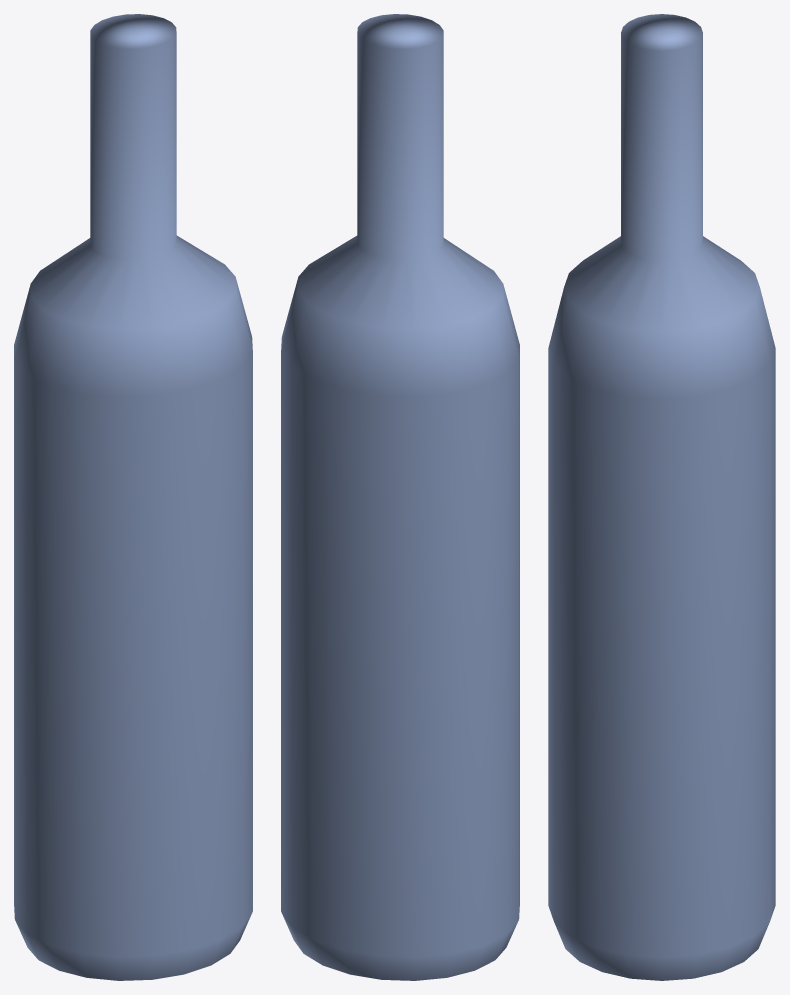
The model's file is BAR_LiqourBottle02.fbx.
The picture shows the model from 3 angles, left to right: view 1: azimuth 30°, elevation 25°; view 2: azimuth 150°, elevation 25°; view 3: azimuth 270°, elevation 25°; orthographic projection.
Visible parts, largest first — view 1: BAR_LiqourBottle02; view 2: BAR_LiqourBottle02; view 3: BAR_LiqourBottle02.
Boxes of the visible parts, box(x1,y1,x2,y2) form: BAR_LiqourBottle02: box(14, 14, 252, 980); BAR_LiqourBottle02: box(281, 14, 519, 980); BAR_LiqourBottle02: box(548, 14, 775, 980).
Size of the model in its own units: 7.79 by 31.75 by 7.25.
